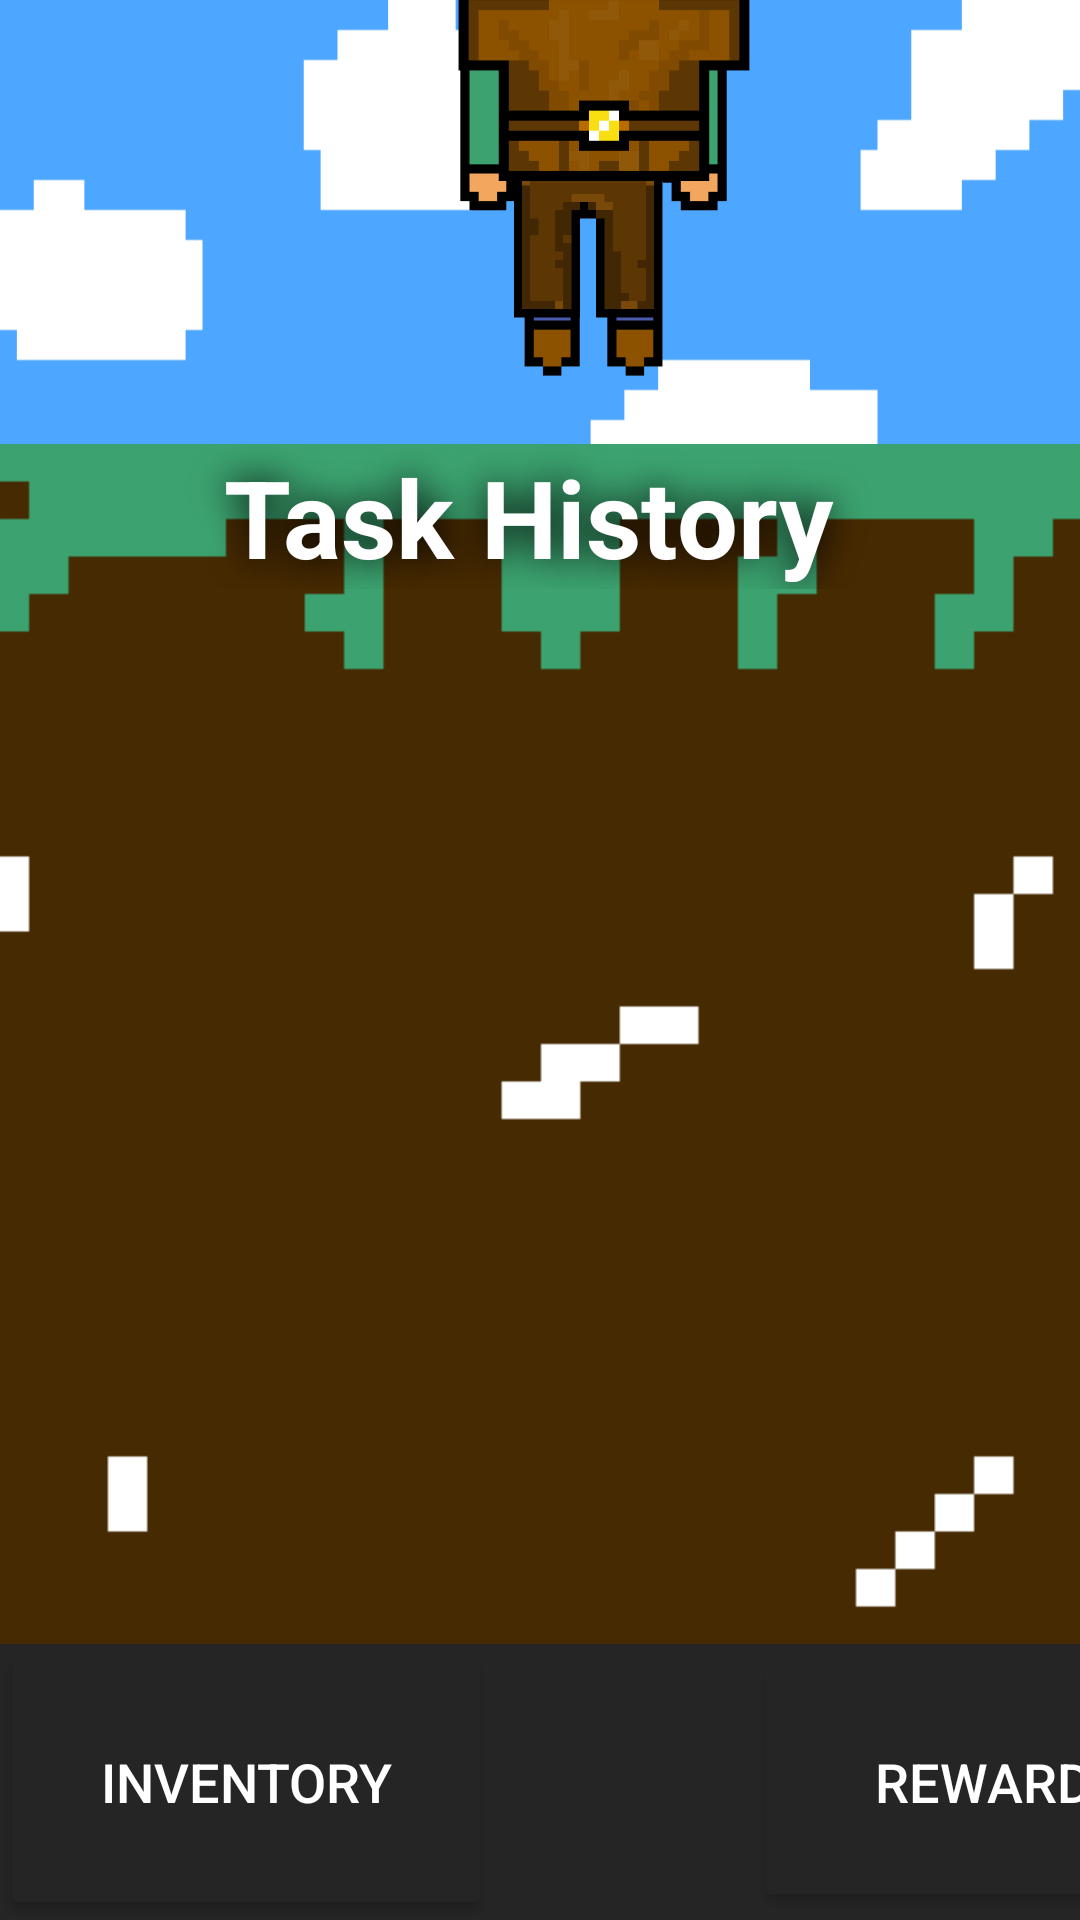

Where to tap for icons on this 1080px×1920px app screen, as point (x, y):
pants: point (588, 235)
